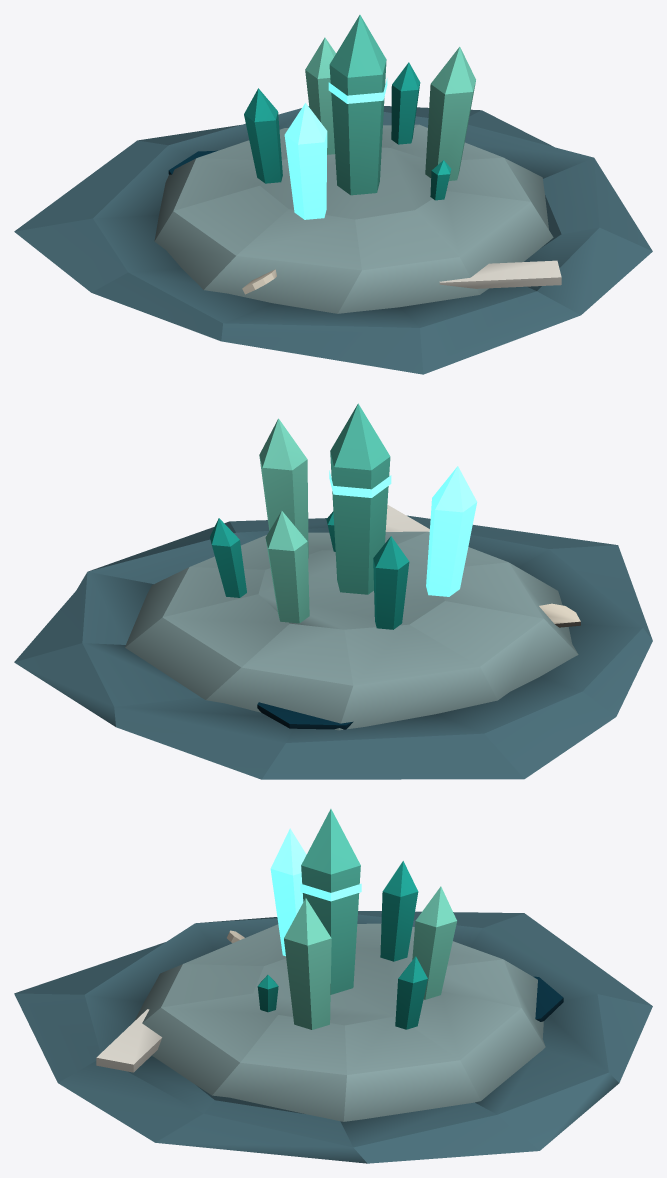
File: n_crystal_tidal.glb
3 renders of one model, top to bottom at view 1: azimuth 30°, elevation 25°; view 2: azimuth 150°, elevation 25°; view 3: azimuth 270°, elevation 25°, orthographic. The views are drawn at different scales.
Parts seen in each view (by area): view 1: body, deployCrystal0, deployCrystal1, deployCrystal2, deployCrystal4, deployCrystal3, deployCrystal5; view 2: body, deployCrystal0, deployCrystal2, deployCrystal1, deployCrystal3, deployCrystal4, deployCrystal5; view 3: body, deployCrystal0, deployCrystal1, deployCrystal3, deployCrystal4, deployCrystal2, deployCrystal5.
Part boxes in pixels (x1=…): body: x1=14, y1=106, x2=652, y2=374; deployCrystal0: x1=328, y1=15, x2=387, y2=195; deployCrystal1: x1=425, y1=46, x2=475, y2=180; deployCrystal2: x1=284, y1=103, x2=327, y2=219; deployCrystal4: x1=244, y1=88, x2=282, y2=183; deployCrystal3: x1=305, y1=37, x2=335, y2=154; deployCrystal5: x1=391, y1=62, x2=420, y2=144; body: x1=14, y1=504, x2=652, y2=779; deployCrystal0: x1=329, y1=403, x2=391, y2=594; deployCrystal2: x1=426, y1=466, x2=477, y2=596; deployCrystal1: x1=259, y1=418, x2=308, y2=558; deployCrystal3: x1=265, y1=511, x2=309, y2=623; deployCrystal4: x1=373, y1=536, x2=409, y2=629; deployCrystal5: x1=210, y1=518, x2=246, y2=597; body: x1=14, y1=911, x2=652, y2=1163; deployCrystal0: x1=300, y1=809, x2=361, y2=994; deployCrystal1: x1=284, y1=898, x2=331, y2=1029; deployCrystal3: x1=412, y1=886, x2=456, y2=999; deployCrystal4: x1=380, y1=861, x2=418, y2=961; deployCrystal2: x1=270, y1=828, x2=306, y2=956; deployCrystal5: x1=395, y1=956, x2=427, y2=1029.
Size of the model in its own units: 1.9 by 0.81 by 2.03.
